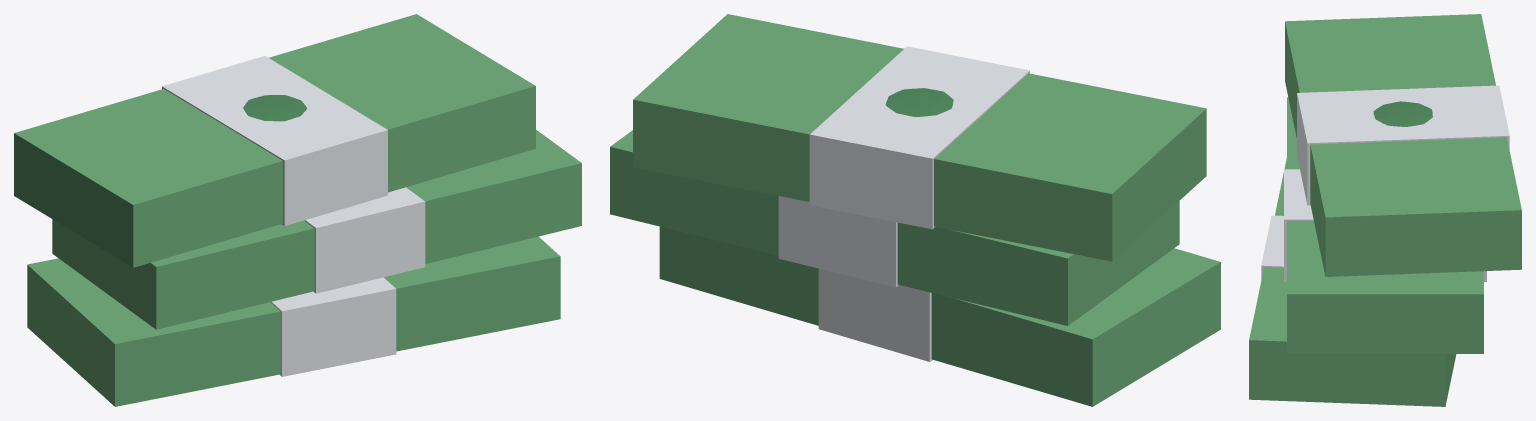
Rendered from cash_stack.glb.
3 renders of one model, left to right at view 1: azimuth 30°, elevation 25°; view 2: azimuth 150°, elevation 25°; view 3: azimuth 270°, elevation 25°, orthographic. The views are drawn at different scales.
Visible parts, largest first — view 1: cash_stack; view 2: cash_stack; view 3: cash_stack.
Boxes of the visible parts, left/top/right/bottom form: cash_stack: left=14, top=14, right=581, bottom=406; cash_stack: left=610, top=14, right=1220, bottom=406; cash_stack: left=1249, top=14, right=1521, bottom=406.
Bounding box in the file's own units: 0.1706 × 0.0713 × 0.0913.
